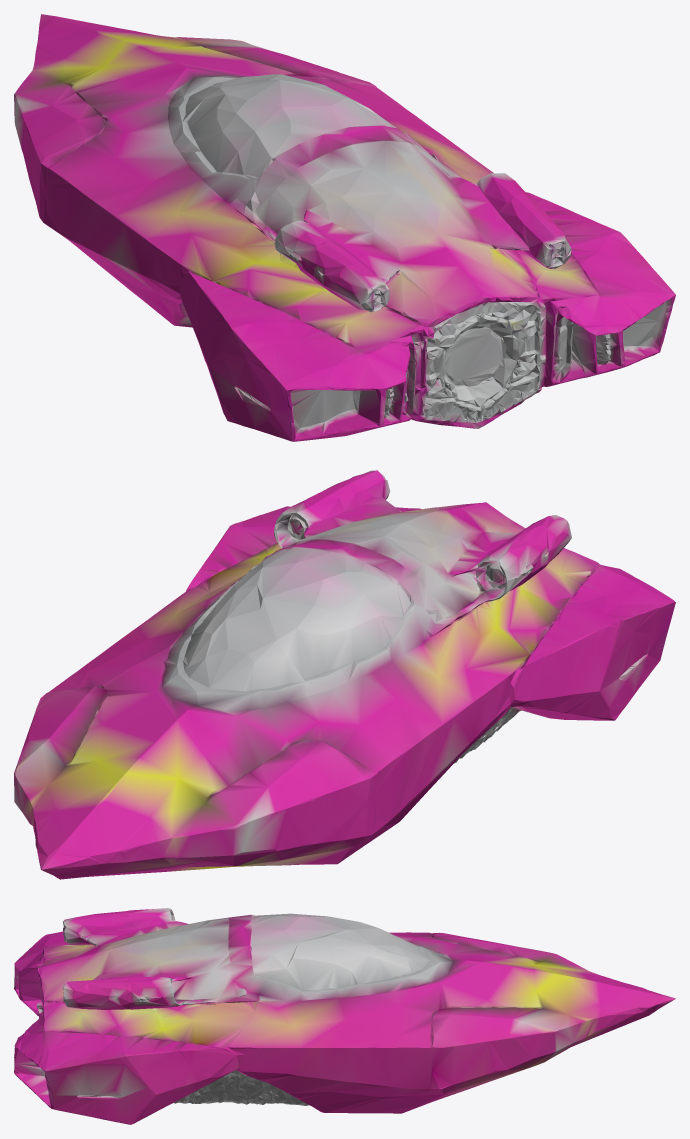
File: pixie_hi.glb
3 views of the same model, one above another, from view 1: azimuth 30°, elevation 25°; view 2: azimuth 150°, elevation 25°; view 3: azimuth 270°, elevation 25° (orthographic). The views are drawn at different scales.
Parts seen in each view (by area): view 1: geometry_0; view 2: geometry_0; view 3: geometry_0.
Part boxes in pixels (box(x1,y1,x2,y2)): geometry_0: box(14, 14, 675, 441); geometry_0: box(14, 470, 675, 879); geometry_0: box(14, 908, 675, 1124).
Bounding box in the file's own units: 3.72 × 1.98 × 7.6.
